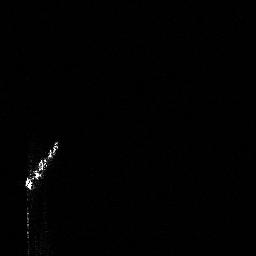ship: (22, 138, 60, 192)
